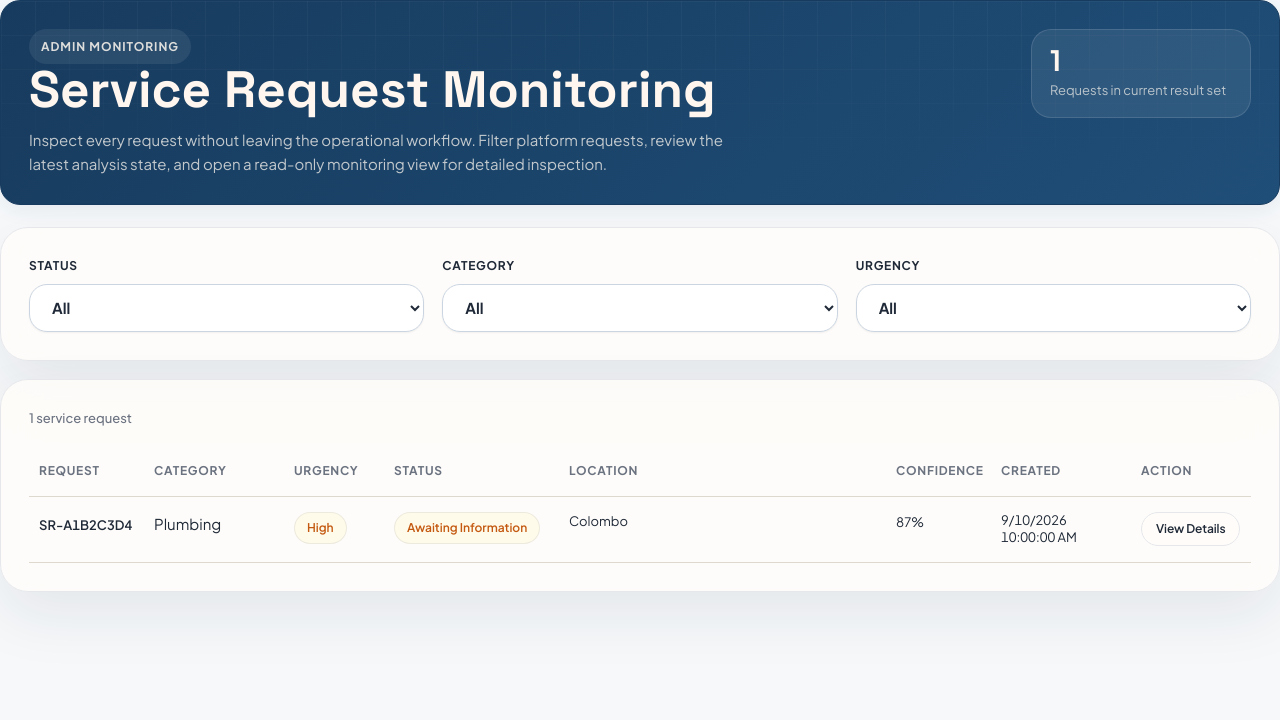
Test: Admin monitoring list › refreshes using the Category filter
Expected: the table is shown, [29, 408, 1251, 563]
Select "Vehicle Repair" in the dropdown labelled "Category" at point(640, 308), box [442, 284, 838, 332]
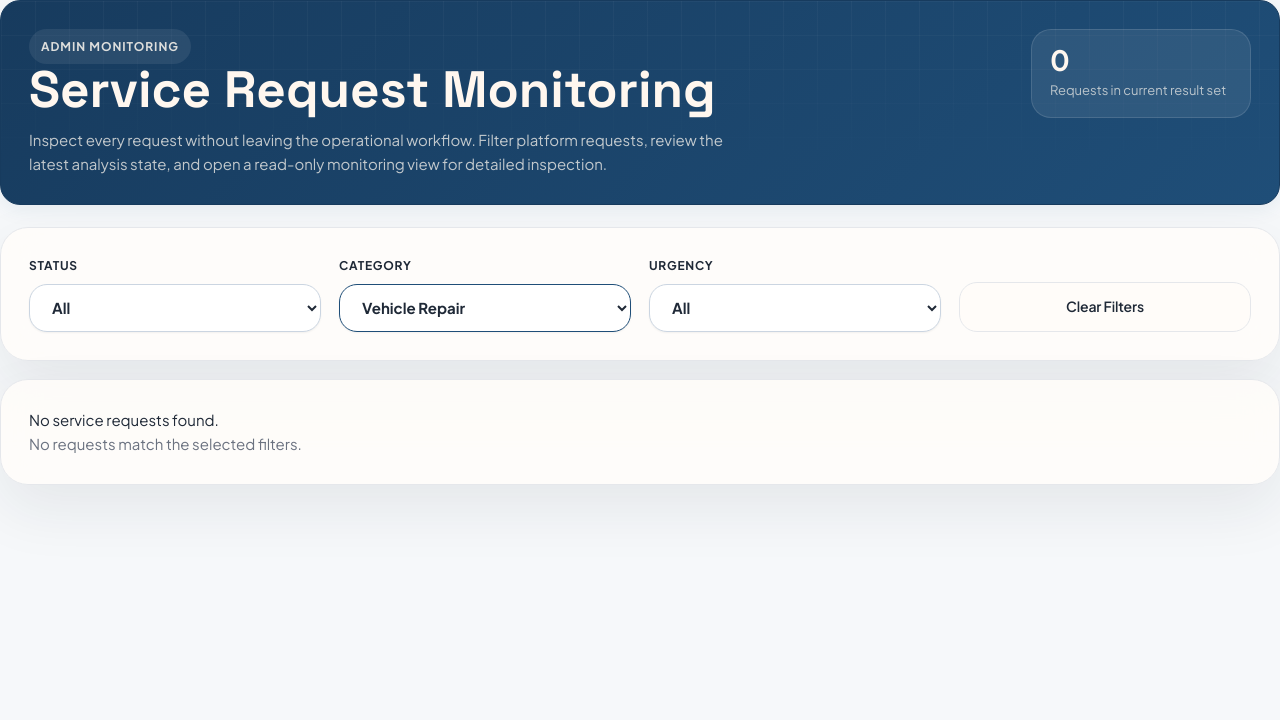
Now the text "No requests match the selected filters." is shown, box [29, 434, 302, 453]
